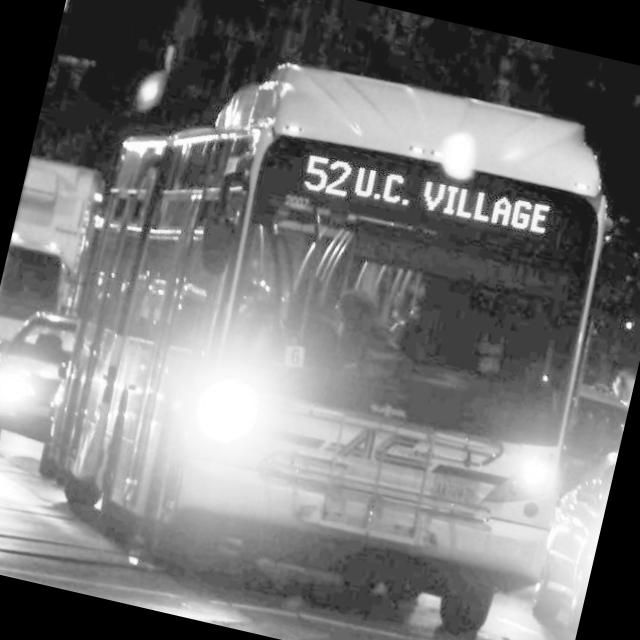Bus: (36, 27, 640, 640)
Car: (511, 423, 622, 640), (0, 293, 94, 461)
